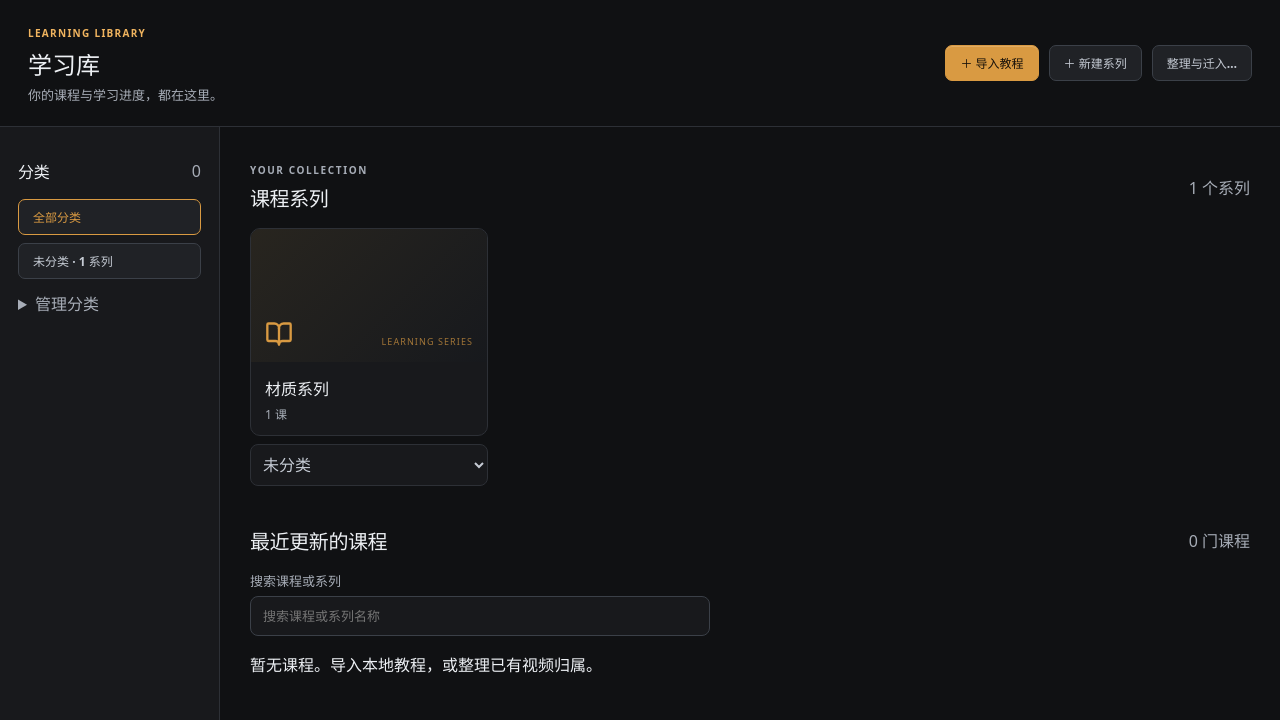
Test: keeps category navigation separate from series browsing and opens a series detail
Expected: the navigation bar named "学习库分类导航" is shown, [0,127,220,719]
Click the button with aria-label "材质系列 · 1 课" at (369, 332), box [250,228,488,436]
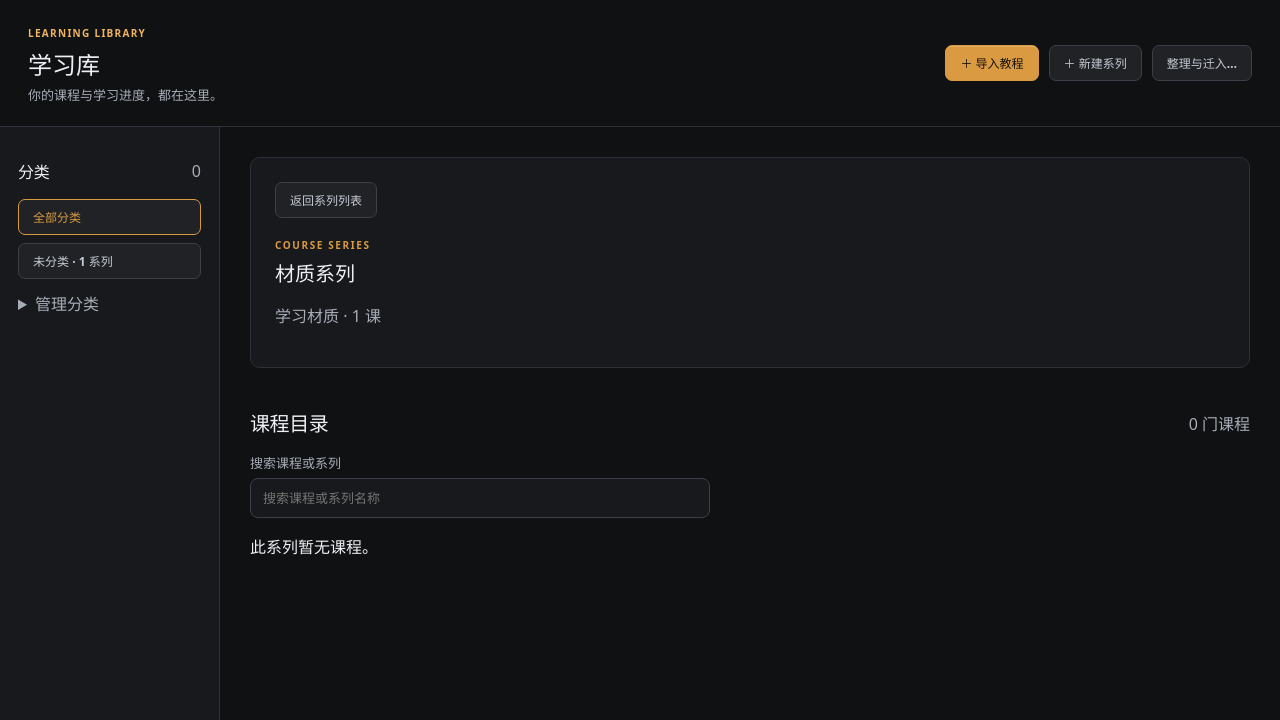
Result: the heading "材质系列" is shown at [275,260,355,287]
Result: the button "返回系列列表" is shown at [275,182,377,218]
